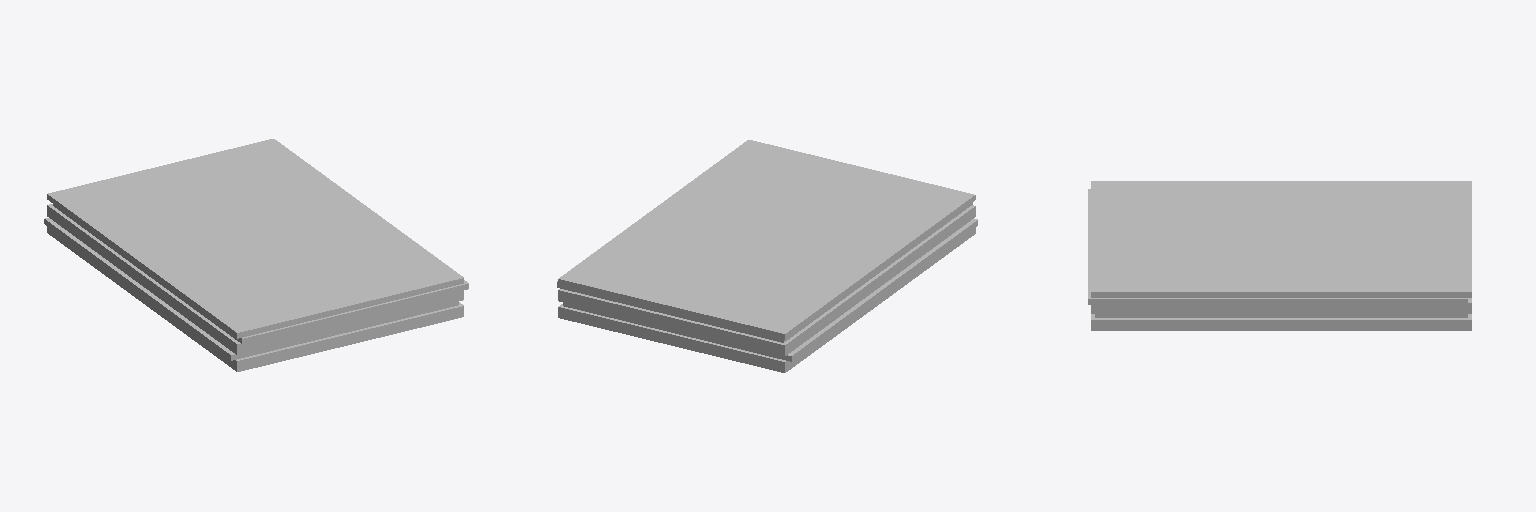
File: pappers_m.obj
The picture shows the model from 3 angles: view 1: azimuth 30°, elevation 25°; view 2: azimuth 150°, elevation 25°; view 3: azimuth 270°, elevation 25°; orthographic projection.
Visible parts, largest first — view 1: pappers_m; view 2: pappers_m; view 3: pappers_m.
Part boxes in pixels (left/top/right/bottom): pappers_m: left=44, top=139, right=468, bottom=371; pappers_m: left=557, top=140, right=977, bottom=372; pappers_m: left=1088, top=181, right=1471, bottom=330.
Size of the model in its own units: 0.2982 by 0.0475 by 0.4213.